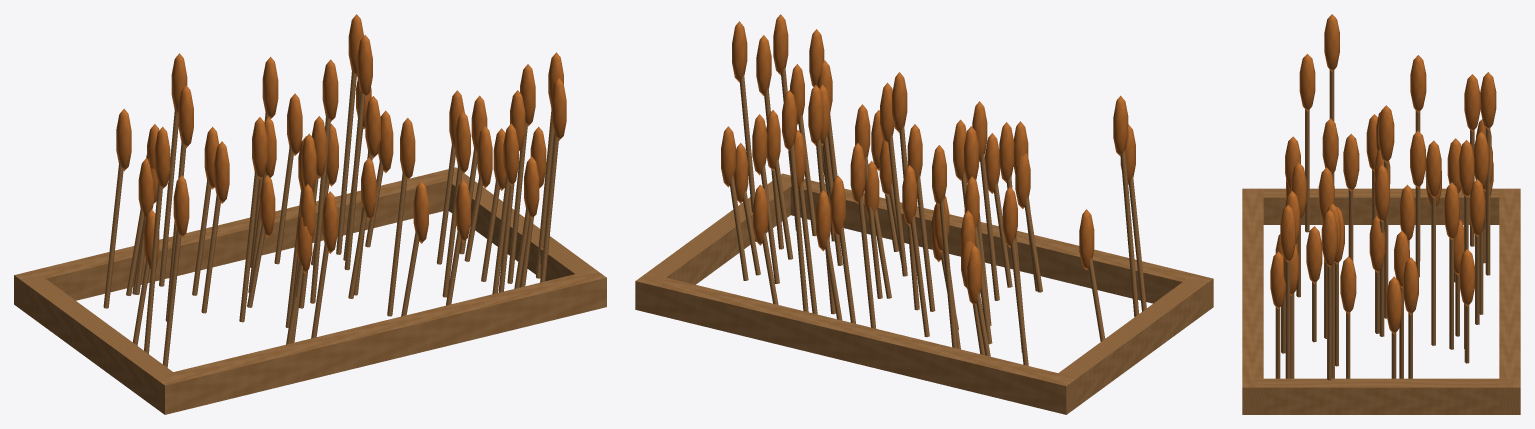
File: garden.glb
The picture shows the model from 3 angles, left to right: view 1: azimuth 30°, elevation 25°; view 2: azimuth 150°, elevation 25°; view 3: azimuth 270°, elevation 25°; orthographic projection. The views are drawn at different scales.
Visible parts, largest first — view 1: garden; view 2: garden; view 3: garden.
Boxes of the visible parts, <box> form: garden: <box>14,14,606,414</box>; garden: <box>635,14,1213,414</box>; garden: <box>1242,14,1520,414</box>.
Size of the model in its own units: 2.22 by 1.15 by 1.3.
2 materials, 2 textured.
